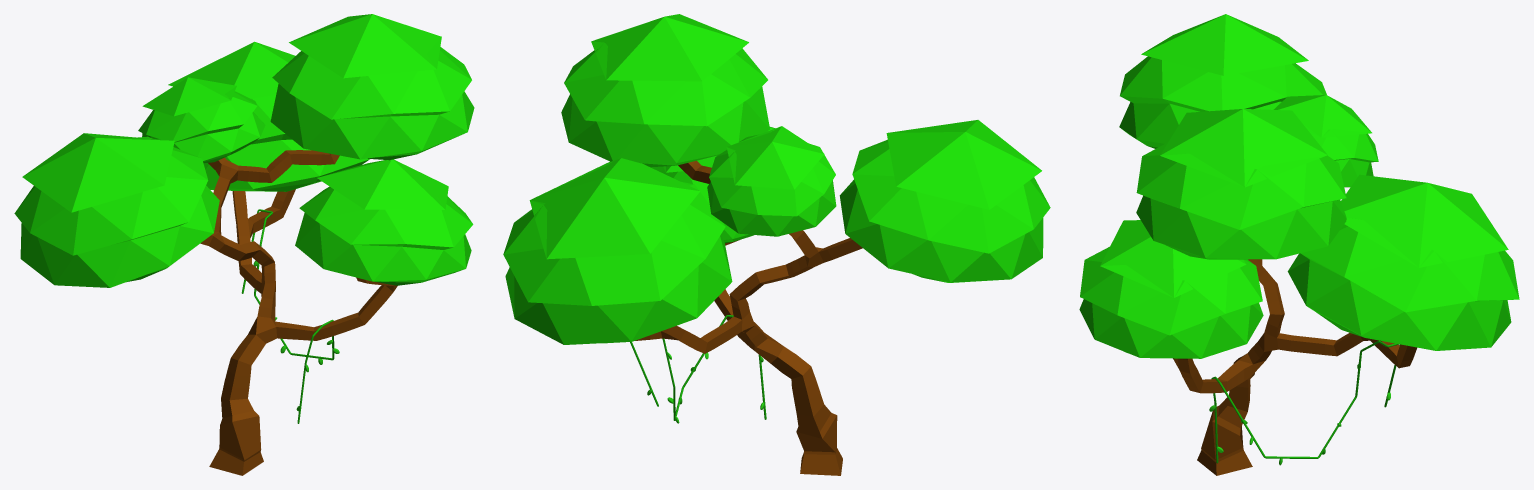
Rendered from tree_1-1.fbx.
3 views of the same model, side by side, from view 1: azimuth 30°, elevation 25°; view 2: azimuth 150°, elevation 25°; view 3: azimuth 270°, elevation 25° (orthographic). The views are drawn at different scales.
Parts seen in each view (by area): view 1: Cube; view 2: Cube; view 3: Cube.
Part boxes in pixels (bbox=[...]): Cube: bbox=[14, 14, 474, 475]; Cube: bbox=[503, 14, 1050, 475]; Cube: bbox=[1079, 14, 1519, 475].
Bounding box in the file's own units: 2199 × 1947 × 1811.
Materials: 1 (1 with a texture image).
